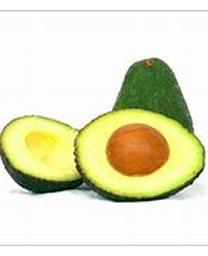avocado: (73, 107, 206, 203), (111, 56, 196, 176), (0, 112, 91, 193)
